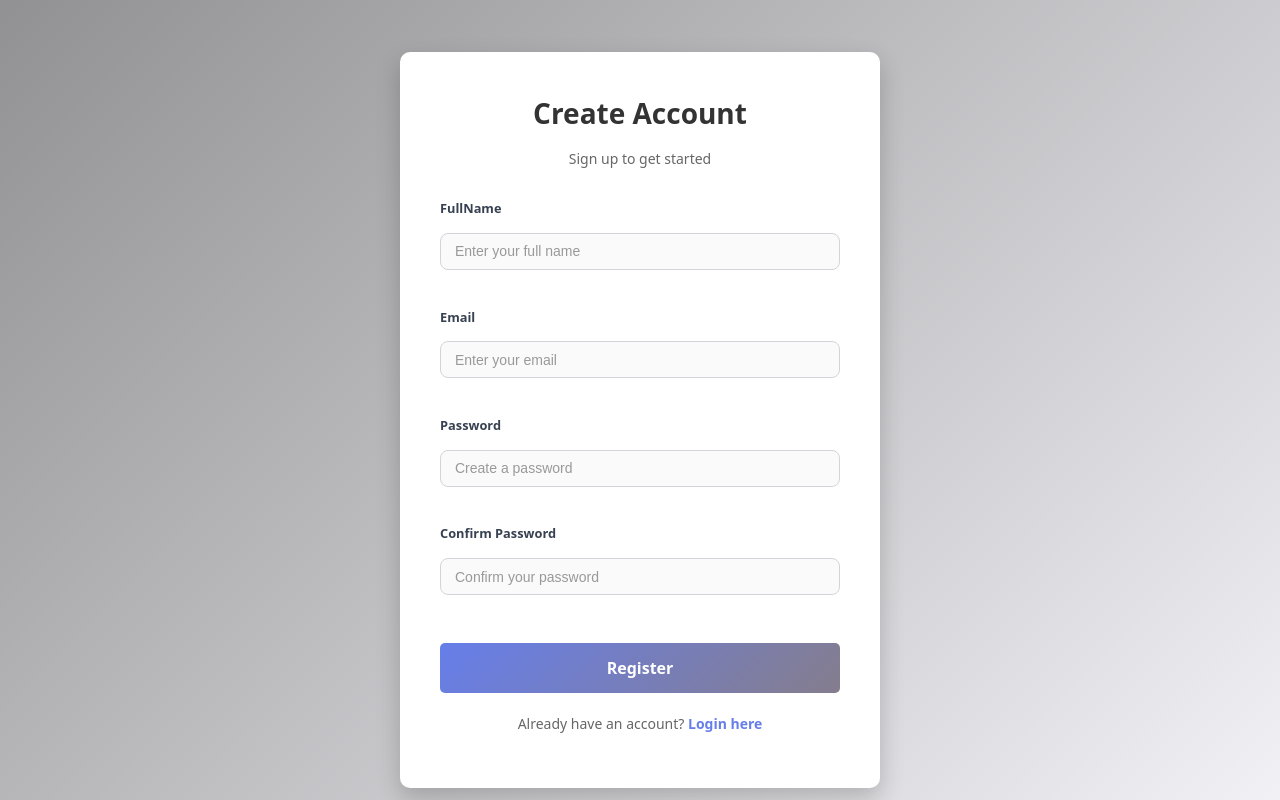
Register — validation › clears error when user types after a validation error
In the field labelled "FullName": (640, 252) x1=440 y1=233 x2=840 y2=270, type "John Doe"
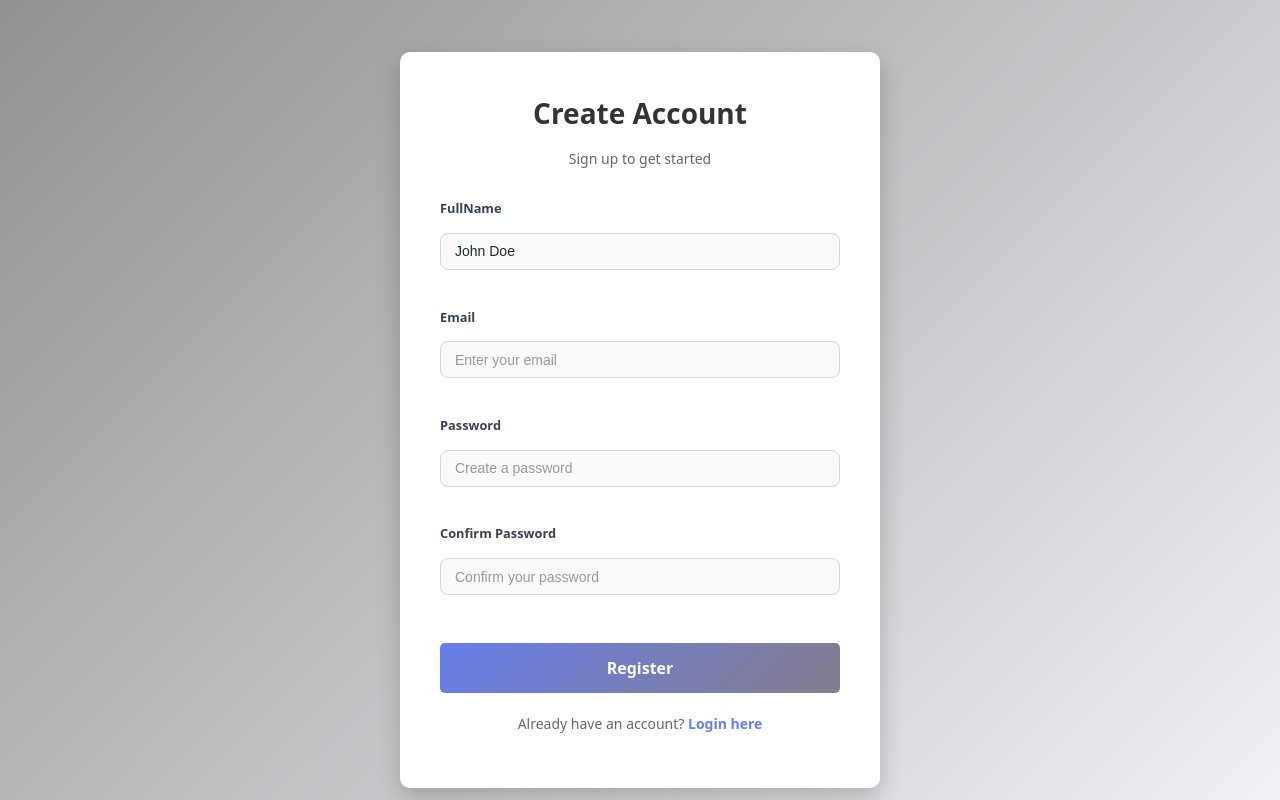
In the field labelled "Email": (640, 360) x1=440 y1=341 x2=840 y2=378, type "john@test.com"
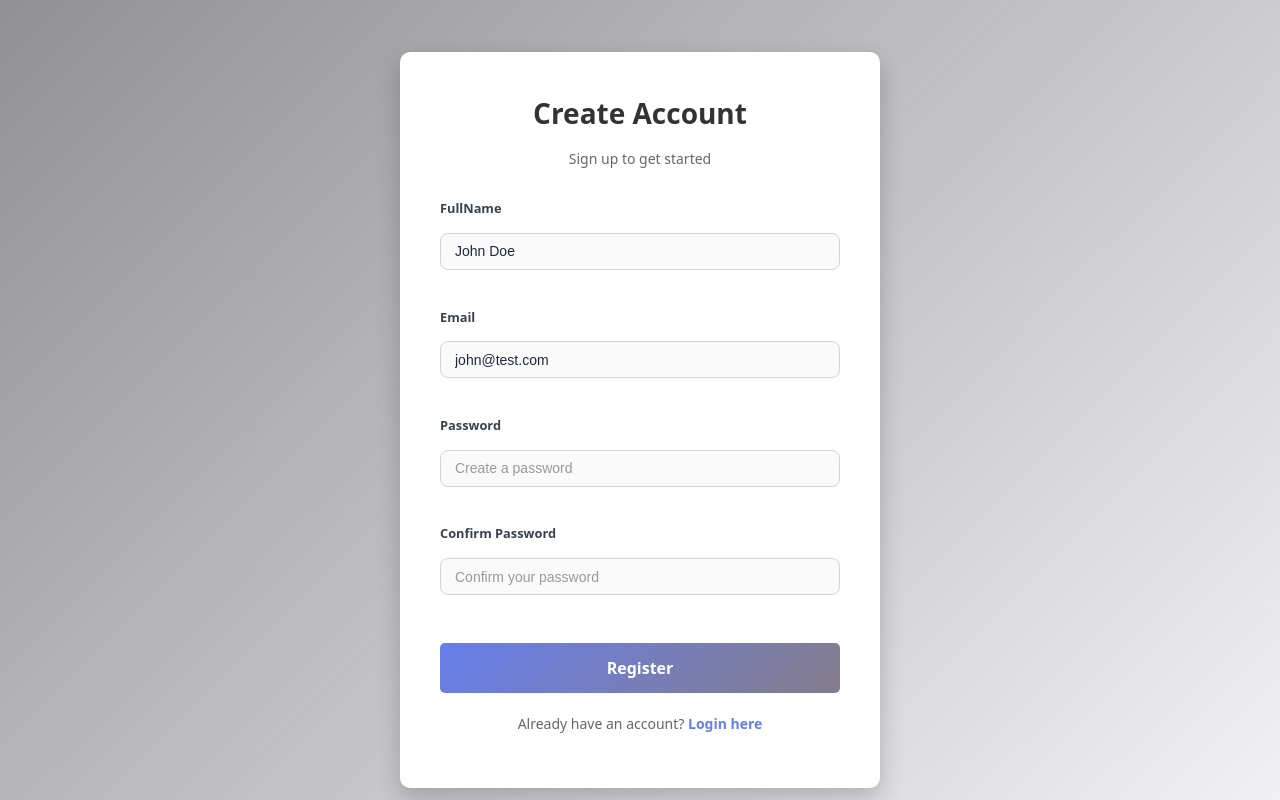
In the password field labelled "Password": (640, 468) x1=440 y1=450 x2=840 y2=487, type "abc"
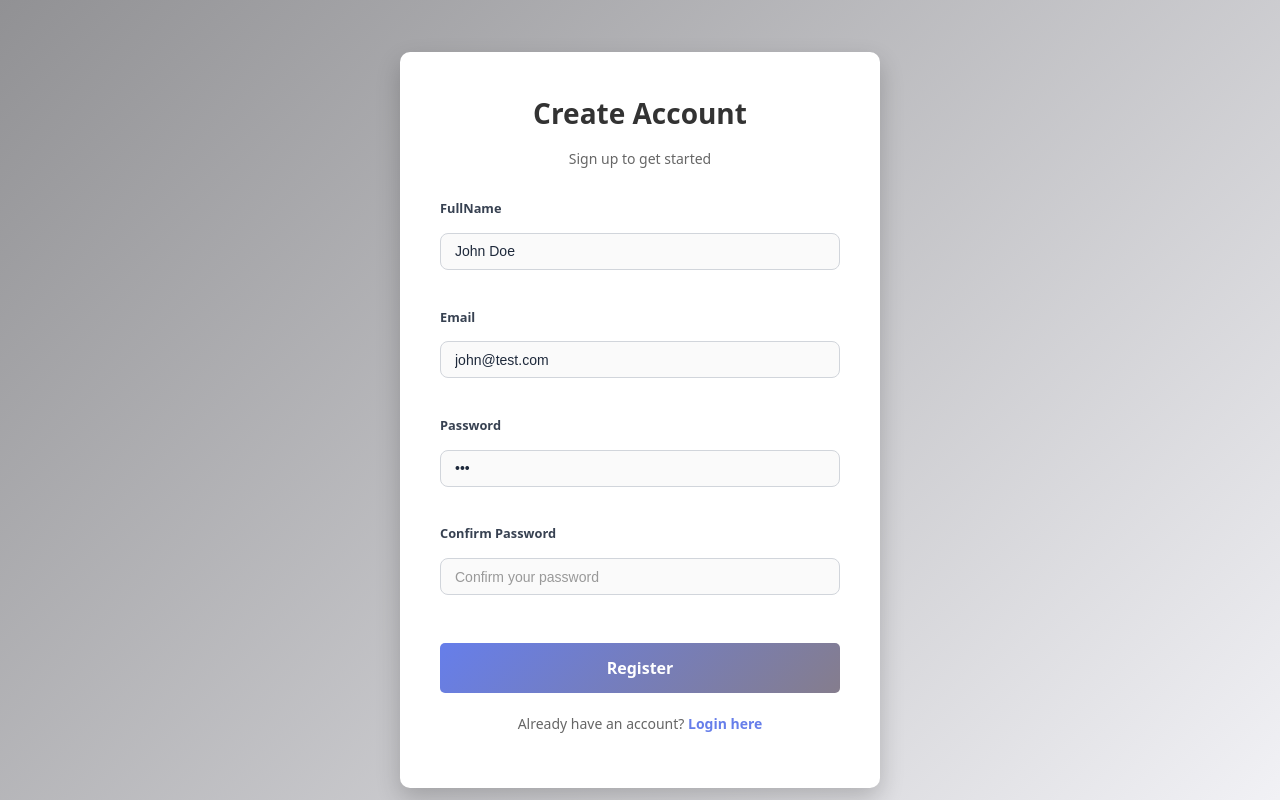
In the password field labelled "Confirm Password": (640, 576) x1=440 y1=558 x2=840 y2=595, type "abc"
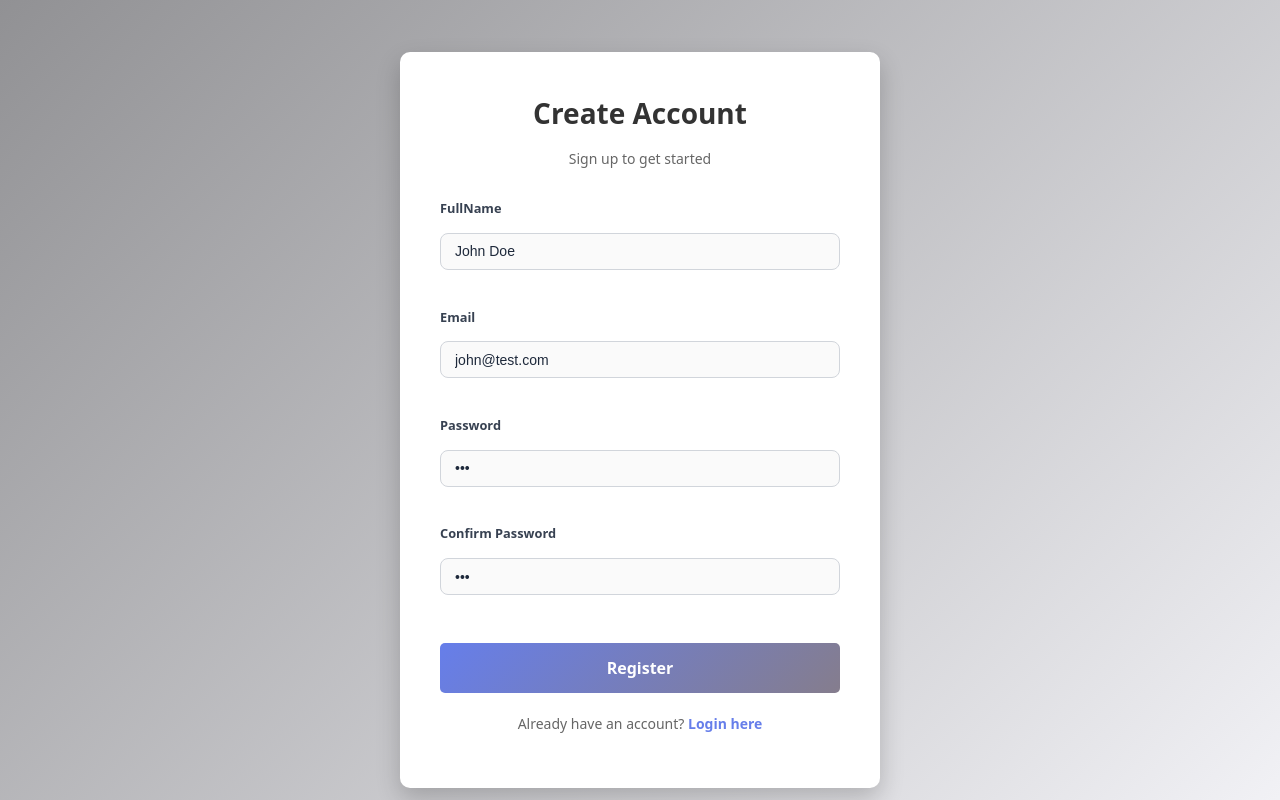
Click the button "Register": (640, 668) x1=440 y1=643 x2=840 y2=693
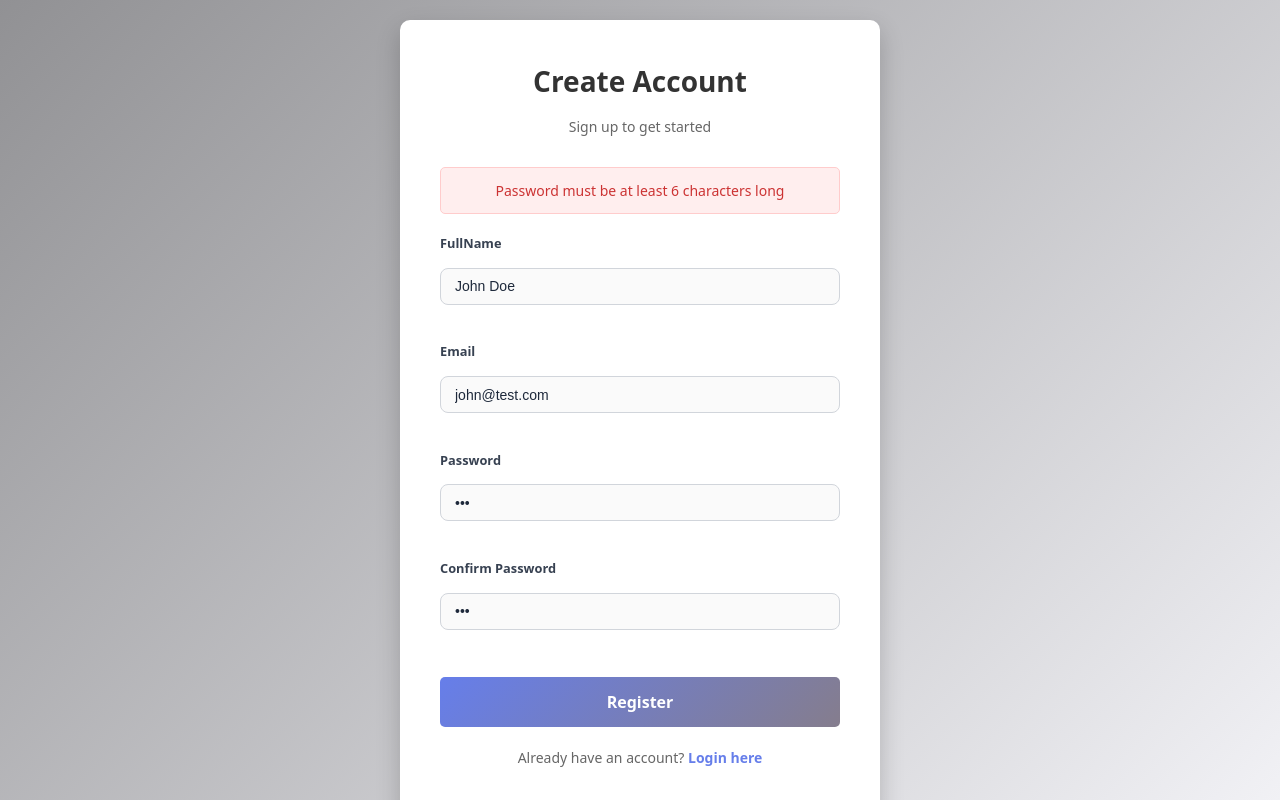
Result: the text "Password must be at least 6 characters long" is shown at x1=440 y1=167 x2=840 y2=214
Replace the text in the field labelled "Email" with "new@test.com": (640, 394) x1=440 y1=376 x2=840 y2=413
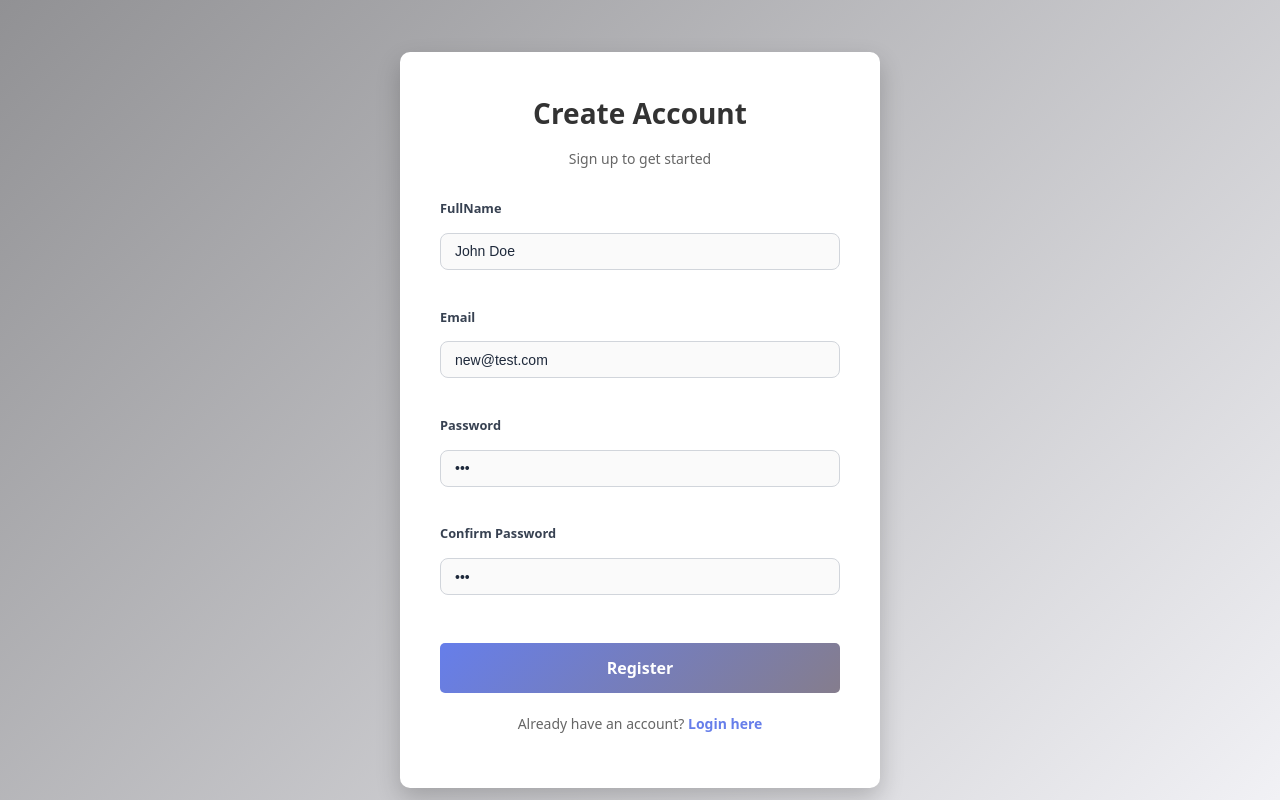
Result: the text "Password must be at least 6 characters long" is gone
